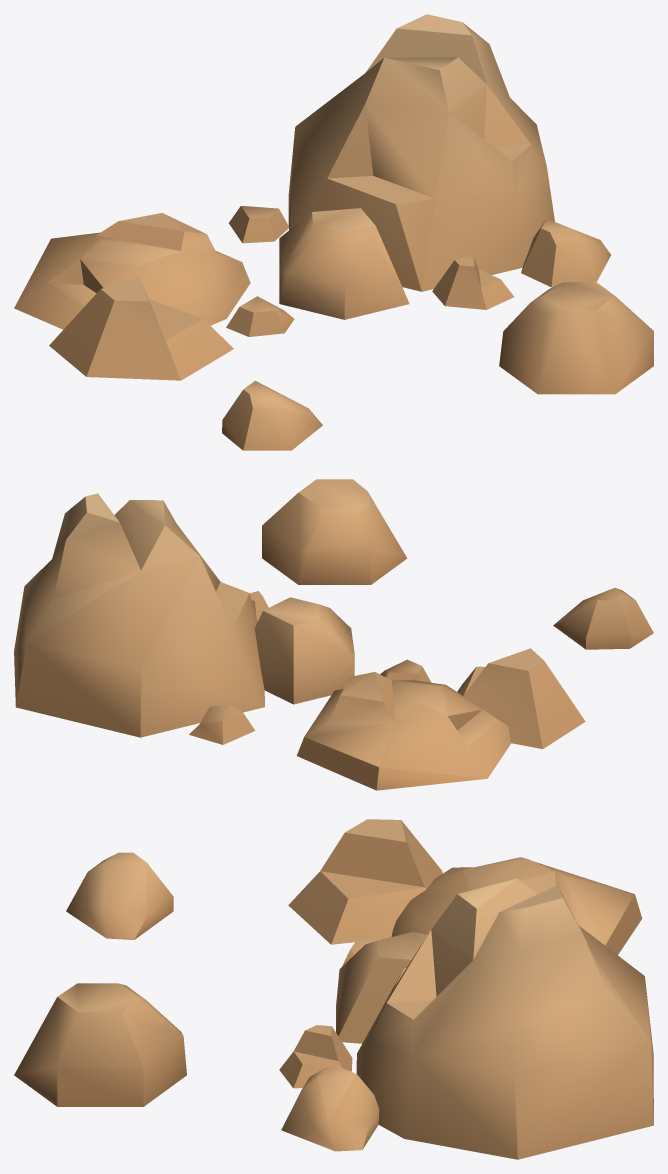
The model's file is rock.glb.
The picture shows the model from 3 angles, top to bottom: view 1: azimuth 30°, elevation 25°; view 2: azimuth 150°, elevation 25°; view 3: azimuth 270°, elevation 25°; orthographic projection. The views are drawn at different scales.
Parts seen in each view (by area): view 1: rock_A; view 2: rock_A; view 3: rock_A.
Boxes of the visible parts, x1=… form: rock_A: x1=14, y1=14, x2=653, y2=450; rock_A: x1=14, y1=479, x2=653, y2=790; rock_A: x1=14, y1=819, x2=653, y2=1159.
Size of the model in its own units: 3.2 by 1.07 by 2.97.
Materials: 1 (1 with a texture image).
